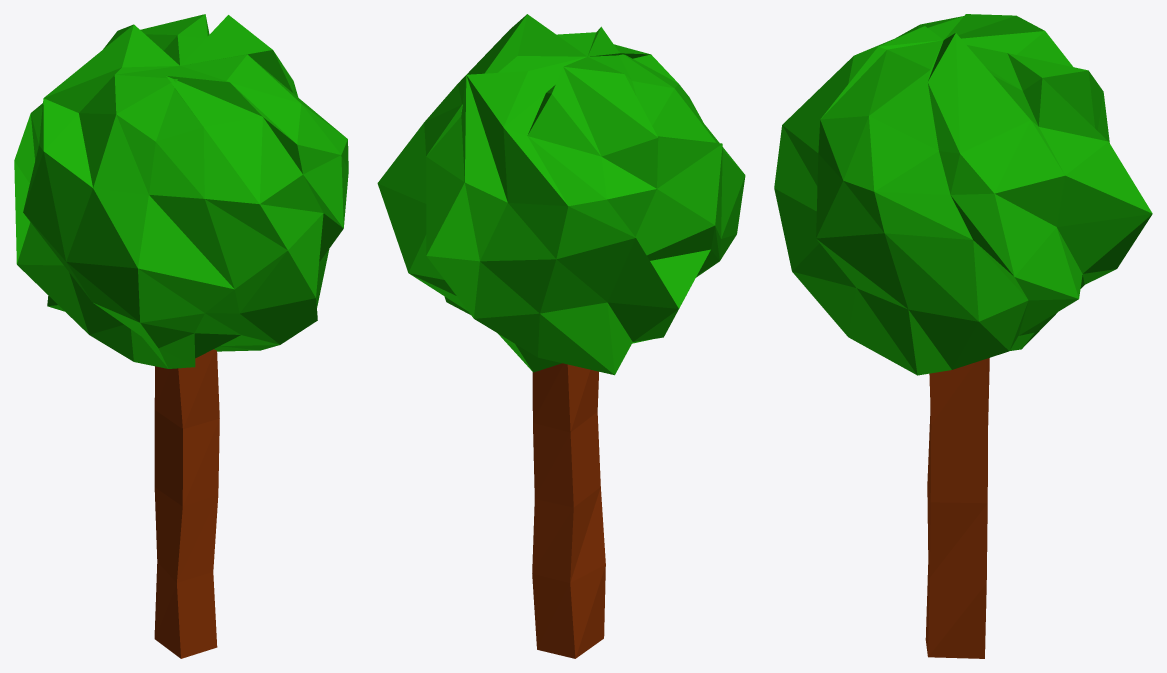
The model's file is tree1.FBX.
3 views of the same model, side by side, from view 1: azimuth 30°, elevation 25°; view 2: azimuth 150°, elevation 25°; view 3: azimuth 270°, elevation 25° (orthographic). The views are drawn at different scales.
Visible parts, largest first — view 1: Box001; view 2: Box001; view 3: Box001.
Boxes of the visible parts, x1=… form: Box001: x1=14, y1=14, x2=348, y2=658; Box001: x1=377, y1=14, x2=745, y2=658; Box001: x1=774, y1=14, x2=1152, y2=658.
Size of the model in its own units: 155 by 155 by 288.
